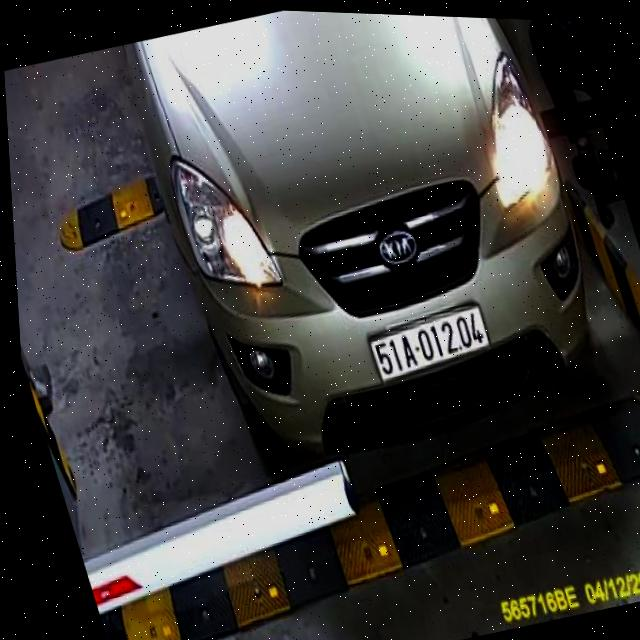car: (103, 4, 637, 497)
plate: (362, 296, 499, 388)
